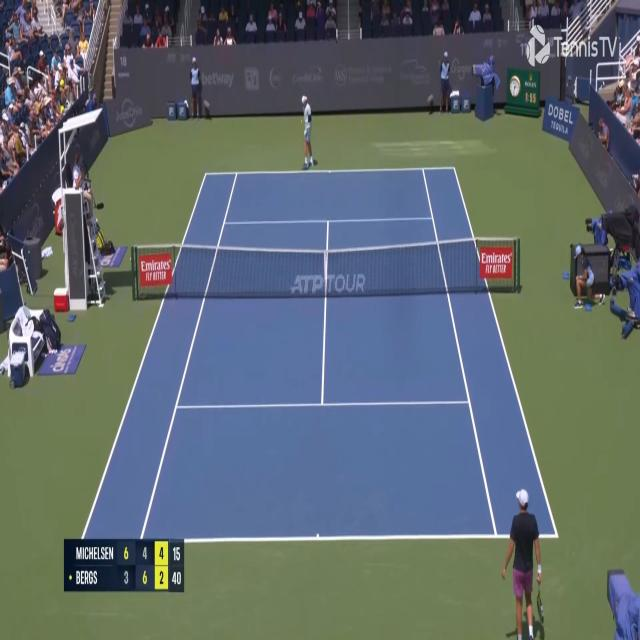tennis-player: (499, 486, 546, 640), (299, 92, 316, 170)
